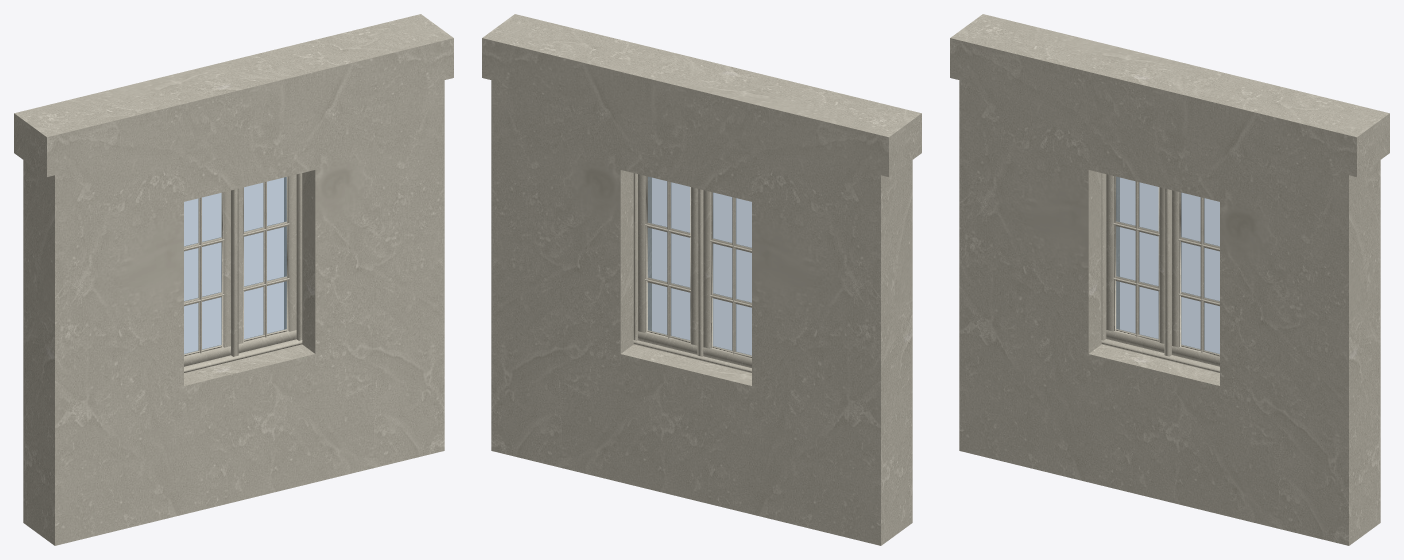
Rendered from f225a4bd-f547-4aaa-bee0-b654243676ed.glb.
The picture shows the model from 3 angles, left to right: view 1: azimuth 30°, elevation 25°; view 2: azimuth 150°, elevation 25°; view 3: azimuth 330°, elevation 25°; orthographic projection.
Parts seen in each view (by area): view 1: AlabasterRectangularWindowedWall.002; view 2: AlabasterRectangularWindowedWall.002; view 3: AlabasterRectangularWindowedWall.002.
Boxes of the visible parts, <box> form: AlabasterRectangularWindowedWall.002: <box>14,14,453,545</box>; AlabasterRectangularWindowedWall.002: <box>482,14,921,545</box>; AlabasterRectangularWindowedWall.002: <box>950,14,1389,545</box>.
Size of what is drawn, in the model's own units: 3.03 by 2.93 by 0.4241.
2 materials, 2 textured.
